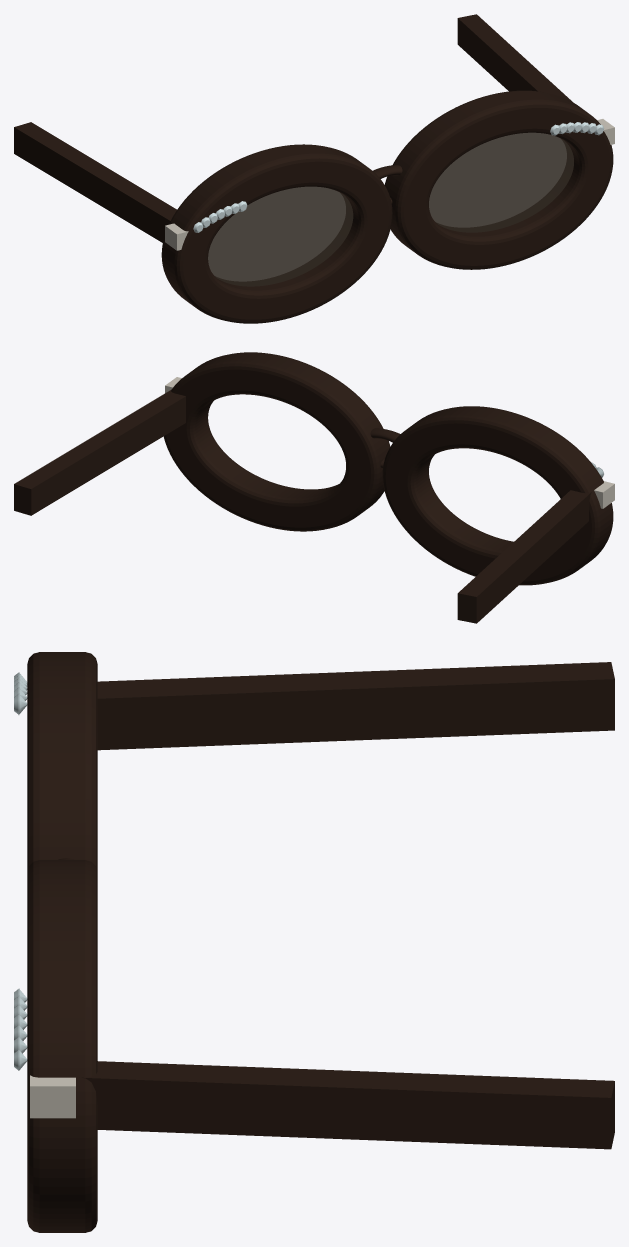
The model's file is sunglasses.glb.
3 views of the same model, one above another, from view 1: azimuth 30°, elevation 25°; view 2: azimuth 150°, elevation 25°; view 3: azimuth 270°, elevation 25° (orthographic). The views are drawn at different scales.
Visible parts, largest first — view 1: SetDiamonde Acetate Eyewear — exploratory concept; view 2: SetDiamonde Acetate Eyewear — exploratory concept; view 3: SetDiamonde Acetate Eyewear — exploratory concept.
Boxes of the visible parts, x1,y1,x2,y2 form: SetDiamonde Acetate Eyewear — exploratory concept: (14,14,614,323); SetDiamonde Acetate Eyewear — exploratory concept: (14,352,614,623); SetDiamonde Acetate Eyewear — exploratory concept: (14,652,614,1232).
Size of the model in its own units: 3.81 by 1.27 by 2.22.
